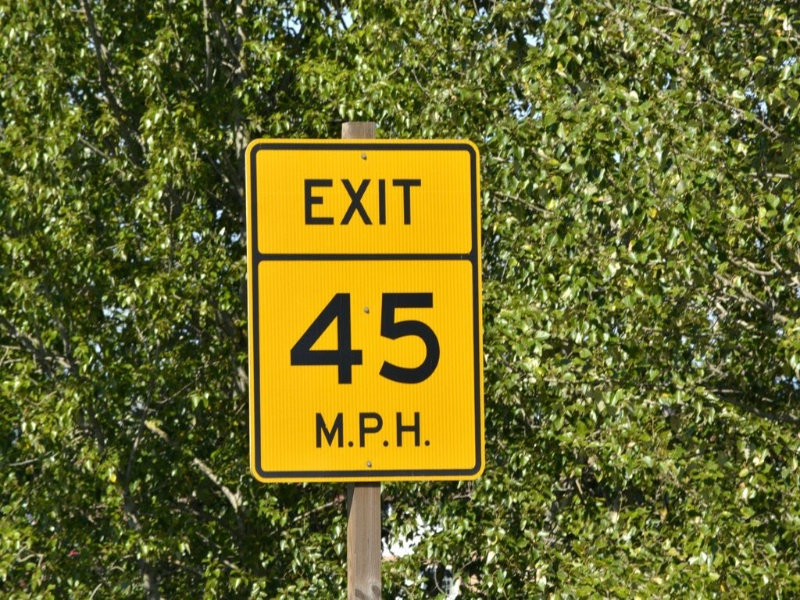exit: (237, 137, 477, 265)
speed_limit_45: (244, 269, 485, 484)
